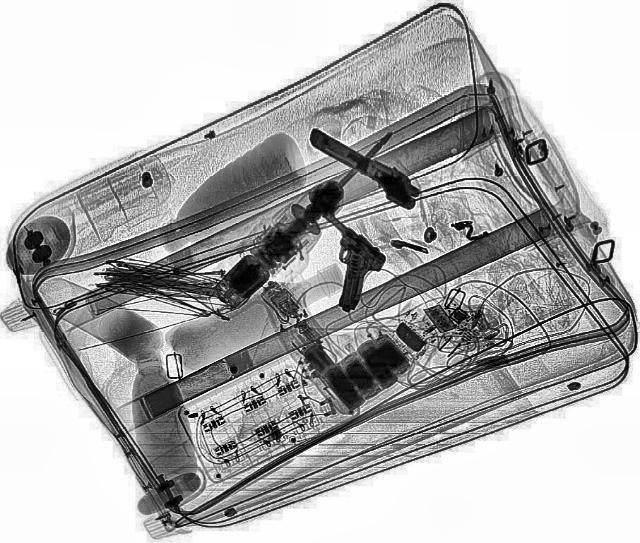Gun: (270, 205, 408, 313), (294, 122, 434, 212)
